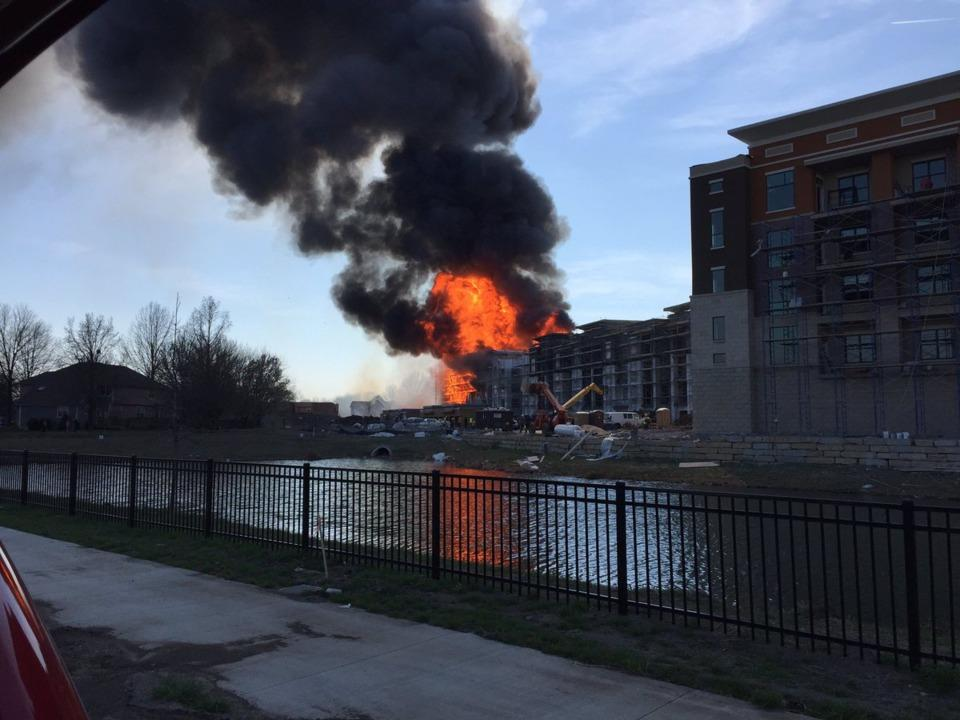Fire: (399, 259, 579, 402)
